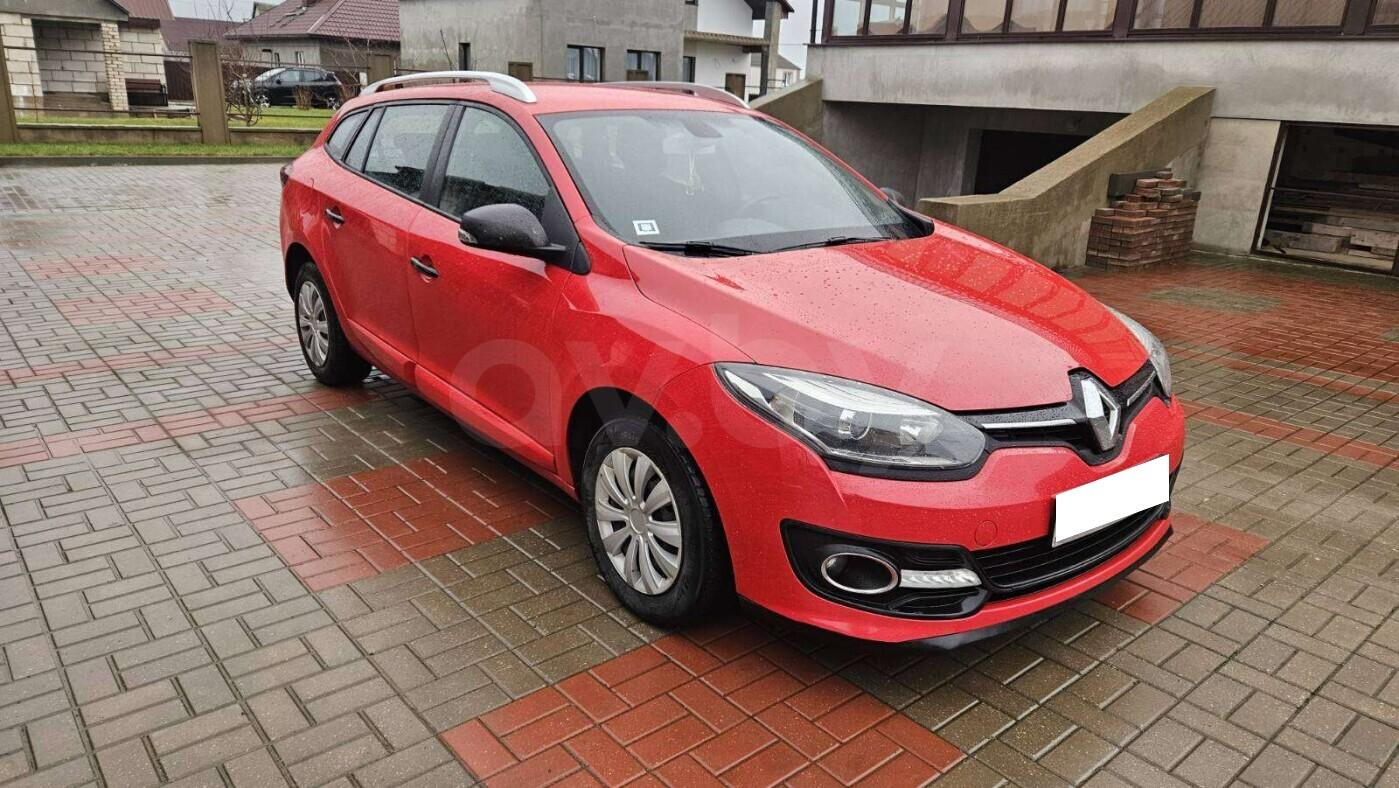Megane_2012-2014: (278, 75, 1196, 667)
